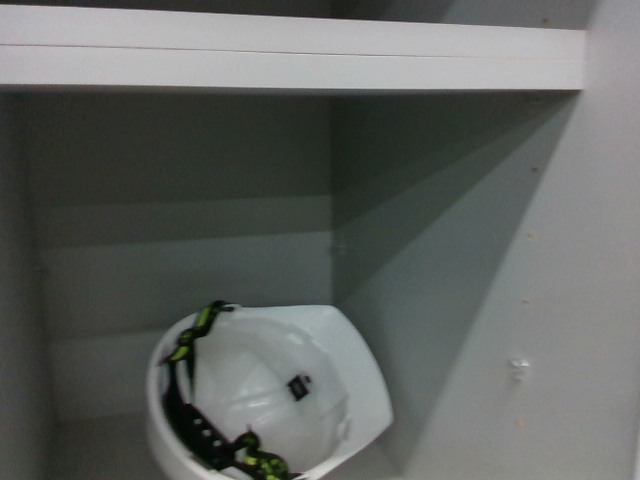helmet: (140, 298, 399, 480)
